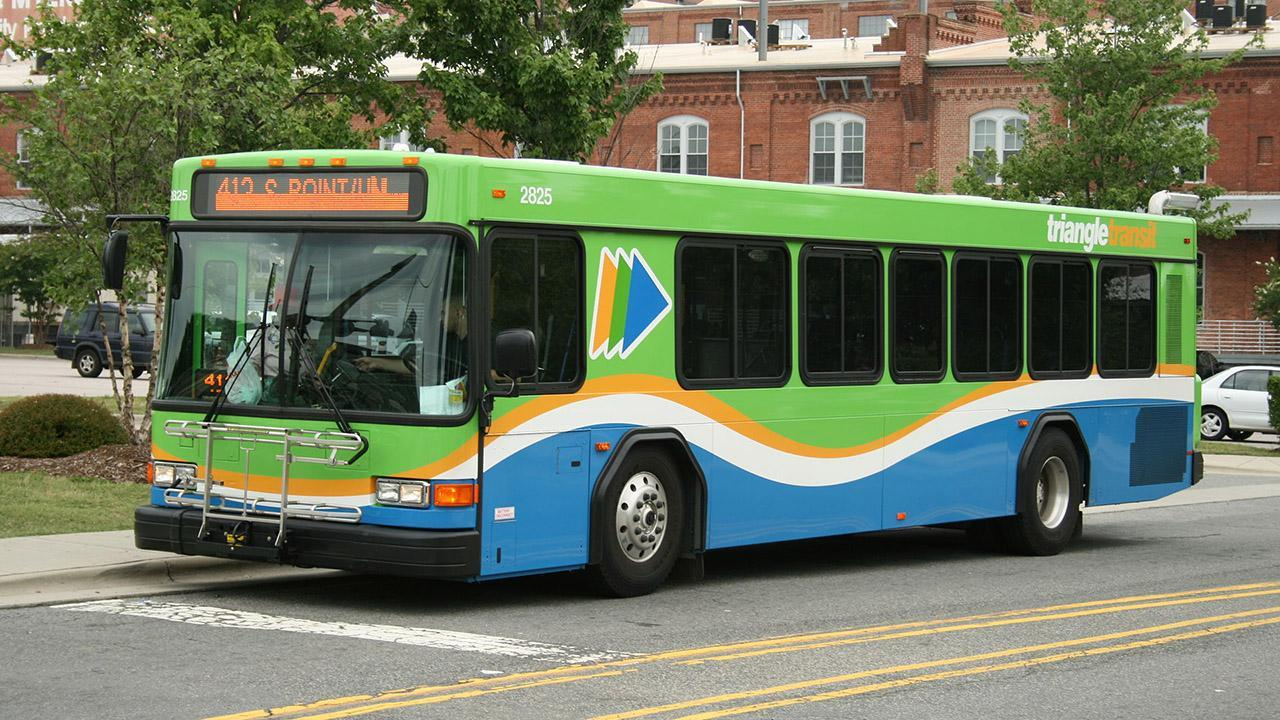Bus: (130, 150, 1207, 600)
